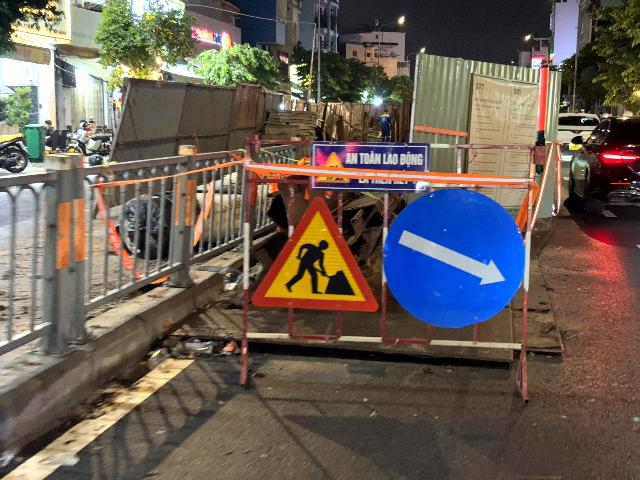cong-truong-dang-thi-cong: (252, 196, 379, 310)
huong-phai-di-vong-chuong-ngai-vat: (383, 189, 525, 329)
